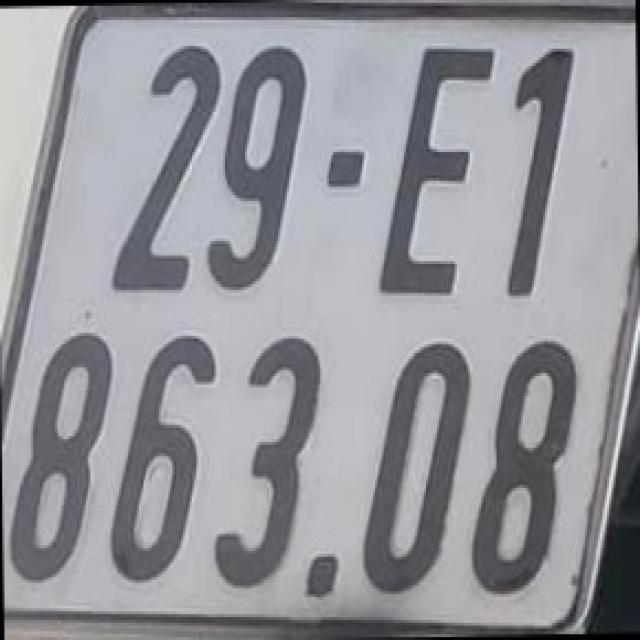0: (358, 333, 472, 597)
1: (500, 38, 580, 302)
2: (104, 34, 214, 296)
3: (210, 327, 322, 591)
6: (106, 327, 216, 586)
8: (468, 327, 580, 600), (4, 322, 112, 588)
9: (208, 40, 312, 296)
E: (380, 31, 494, 302)
